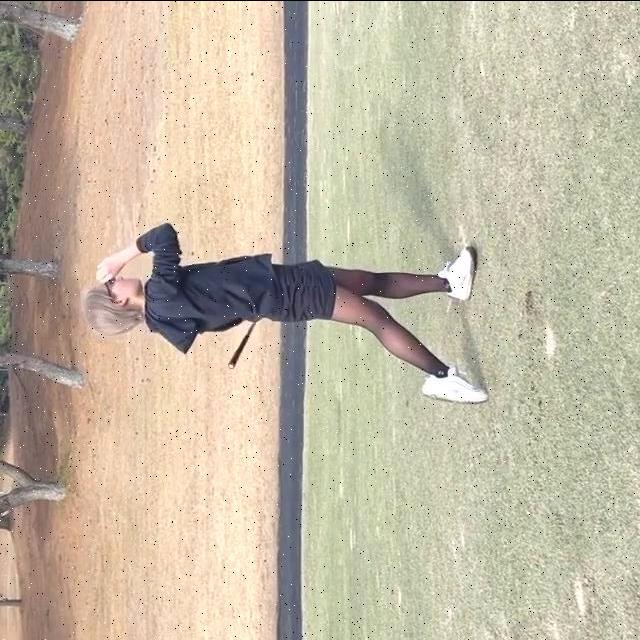ClubHandle: (229, 320, 258, 368)
